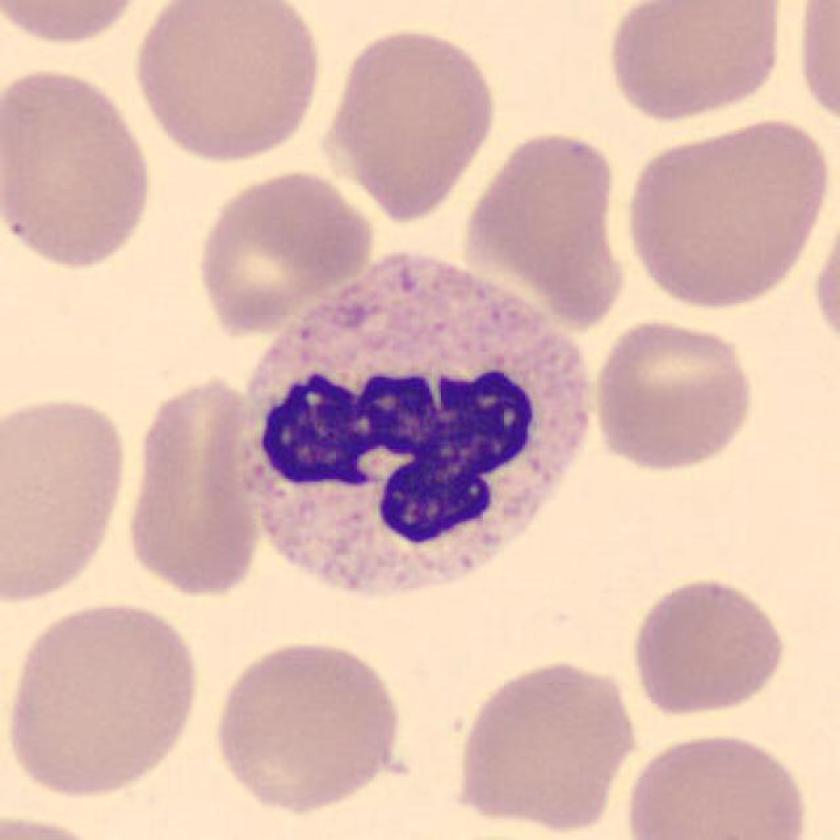neutrophil: (241, 256, 593, 593)
